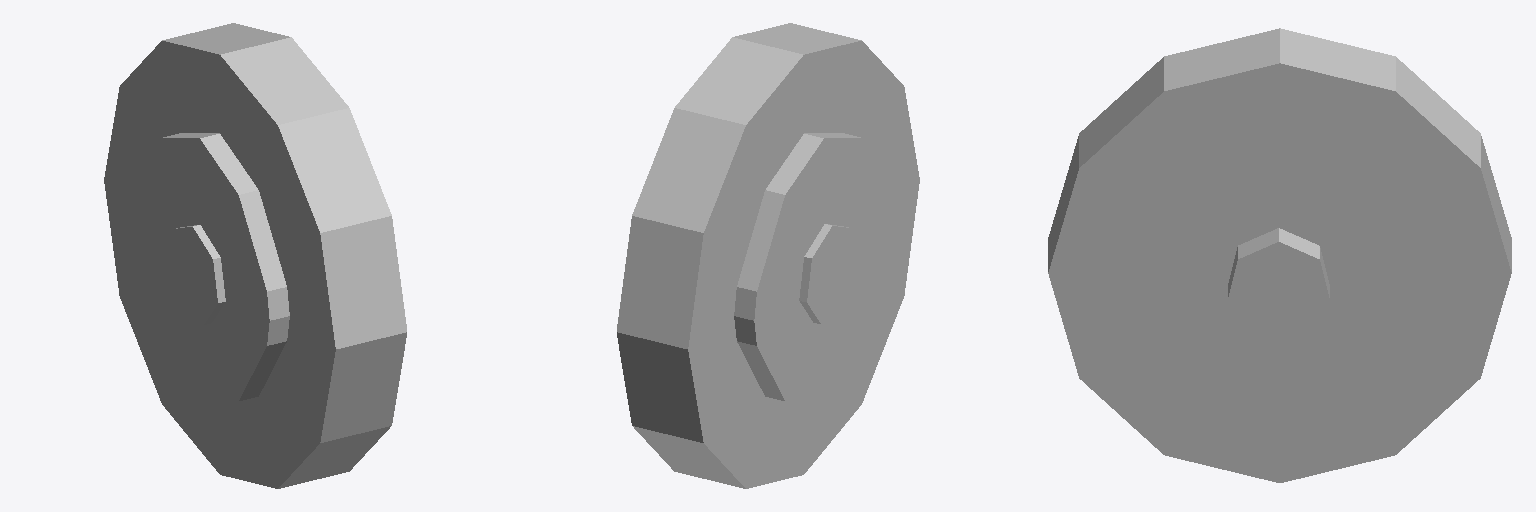
Rendered from ForestCatapultWheel.obj.
3 renders of one model, left to right at view 1: azimuth 30°, elevation 25°; view 2: azimuth 150°, elevation 25°; view 3: azimuth 270°, elevation 25°, orthographic.
Parts seen in each view (by area): view 1: ForestCatapultWheel; view 2: ForestCatapultWheel; view 3: ForestCatapultWheel.
Boxes of the visible parts, x1=… form: ForestCatapultWheel: x1=104, y1=23, x2=406, y2=488; ForestCatapultWheel: x1=617, y1=23, x2=919, y2=488; ForestCatapultWheel: x1=1048, y1=28, x2=1511, y2=482.
Bounding box in the file's own units: 26.66 × 83.6 × 83.6.